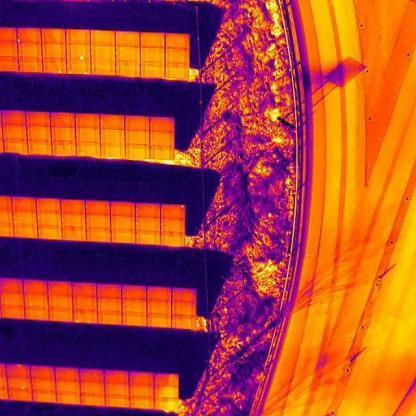Hotspot: (66, 44, 91, 61), (42, 58, 67, 74), (160, 204, 186, 219), (73, 309, 98, 324), (66, 61, 92, 75), (17, 28, 42, 42), (23, 294, 48, 306), (7, 378, 32, 390)
Normal: (140, 31, 166, 48), (165, 33, 190, 50), (124, 116, 150, 132), (75, 128, 101, 144), (90, 30, 116, 46), (116, 31, 140, 48), (100, 115, 126, 130), (50, 127, 76, 142), (136, 203, 162, 218), (140, 63, 166, 78), (150, 118, 174, 134), (42, 28, 66, 44), (1, 110, 26, 125), (100, 129, 125, 144), (125, 130, 150, 145), (3, 139, 28, 154), (36, 198, 61, 213), (61, 199, 86, 214), (136, 230, 161, 245), (42, 43, 67, 58), (91, 47, 116, 62), (26, 126, 52, 140), (110, 203, 136, 217), (110, 216, 136, 230), (22, 281, 48, 295), (96, 284, 122, 298), (72, 296, 98, 310), (24, 306, 50, 320), (122, 312, 148, 326), (6, 366, 32, 380), (90, 62, 116, 76), (150, 145, 174, 160), (86, 214, 110, 229), (161, 218, 185, 233), (38, 225, 62, 240), (161, 232, 185, 247), (19, 57, 43, 72), (116, 62, 140, 77), (26, 112, 51, 126), (85, 200, 110, 214), (13, 211, 38, 225), (147, 288, 172, 302), (147, 300, 172, 314), (0, 306, 25, 320), (105, 394, 130, 408), (130, 396, 155, 410), (18, 43, 43, 57), (140, 48, 165, 62), (48, 296, 74, 309), (48, 308, 74, 321), (30, 366, 56, 379), (51, 113, 75, 127), (2, 125, 26, 139), (52, 142, 76, 156), (126, 146, 150, 160), (13, 198, 37, 212), (14, 224, 38, 238), (62, 226, 86, 240), (112, 230, 136, 244), (122, 286, 146, 300), (172, 289, 196, 303), (98, 310, 122, 324), (172, 316, 196, 330), (66, 30, 90, 44), (56, 368, 80, 382), (80, 370, 104, 384), (116, 48, 140, 62), (165, 50, 189, 64), (165, 64, 189, 78), (76, 144, 101, 157), (37, 212, 62, 225), (48, 283, 73, 296), (122, 299, 147, 312), (130, 372, 155, 385), (32, 379, 57, 392), (29, 140, 52, 154), (0, 280, 23, 294), (76, 115, 100, 128), (86, 228, 110, 241), (72, 284, 98, 296), (172, 303, 196, 316), (155, 373, 179, 386), (56, 381, 82, 393), (80, 394, 106, 406), (7, 390, 35, 401), (150, 133, 175, 145), (101, 145, 126, 157), (97, 298, 122, 310), (147, 314, 172, 326), (105, 370, 130, 382), (81, 382, 106, 394), (57, 393, 82, 405), (62, 214, 86, 226), (136, 218, 160, 230), (0, 294, 24, 306), (154, 386, 178, 398), (0, 56, 19, 70), (106, 384, 130, 395), (155, 399, 178, 410), (0, 42, 18, 56), (130, 386, 154, 396), (34, 392, 58, 402), (0, 29, 17, 42)
